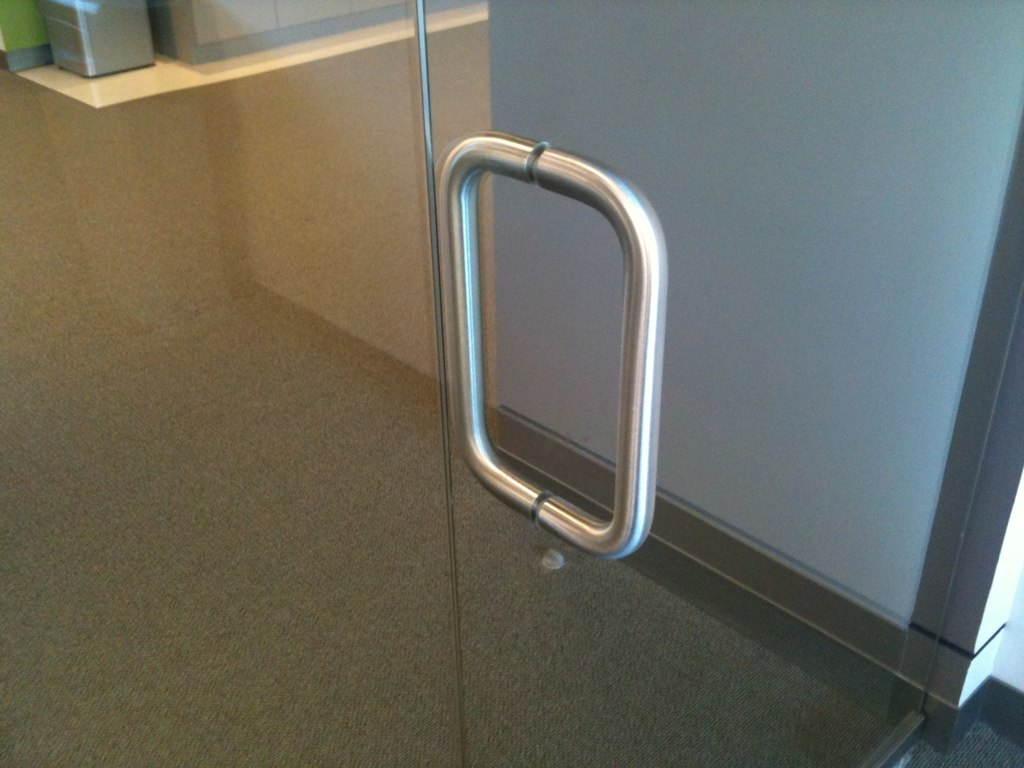door: (435, 9, 930, 749)
handle: (535, 140, 682, 567), (428, 114, 541, 515)
